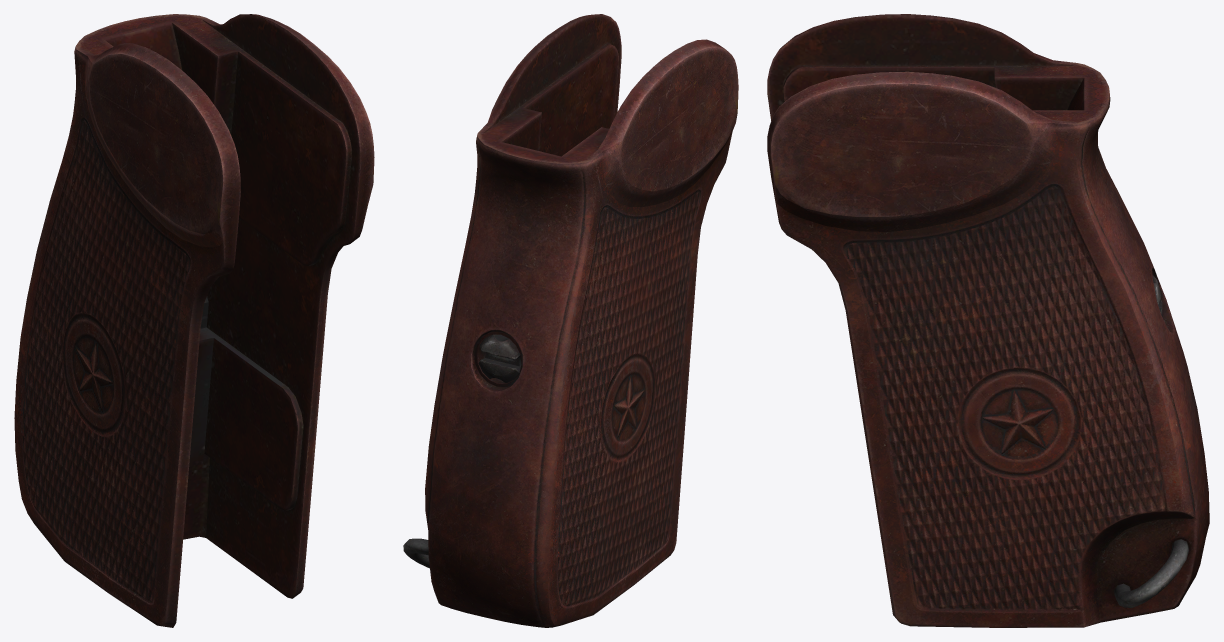
Rendered from pistolgrip_pm_izhmeh_pm_std (merge).fbx.
The picture shows the model from 3 angles, left to right: view 1: azimuth 30°, elevation 25°; view 2: azimuth 150°, elevation 25°; view 3: azimuth 270°, elevation 25°; orthographic projection. The views are drawn at different scales.
Parts seen in each view (by area): view 1: pistolgrip_pm_izhmeh_pm_std_LOD0; view 2: pistolgrip_pm_izhmeh_pm_std_LOD0; view 3: pistolgrip_pm_izhmeh_pm_std_LOD0.
Part boxes in pixels (x1,y1,x2,y2): pistolgrip_pm_izhmeh_pm_std_LOD0: [14, 14, 374, 627]; pistolgrip_pm_izhmeh_pm_std_LOD0: [403, 14, 738, 627]; pistolgrip_pm_izhmeh_pm_std_LOD0: [767, 14, 1209, 627].
Size of what is drawn, in the model's own units: 0.0297 by 0.0861 by 0.0625.
